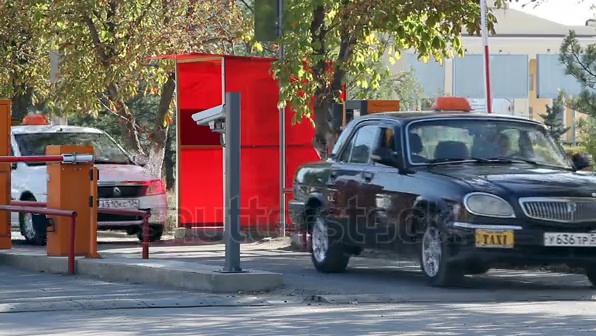licenseplate: (130, 252, 169, 279)
